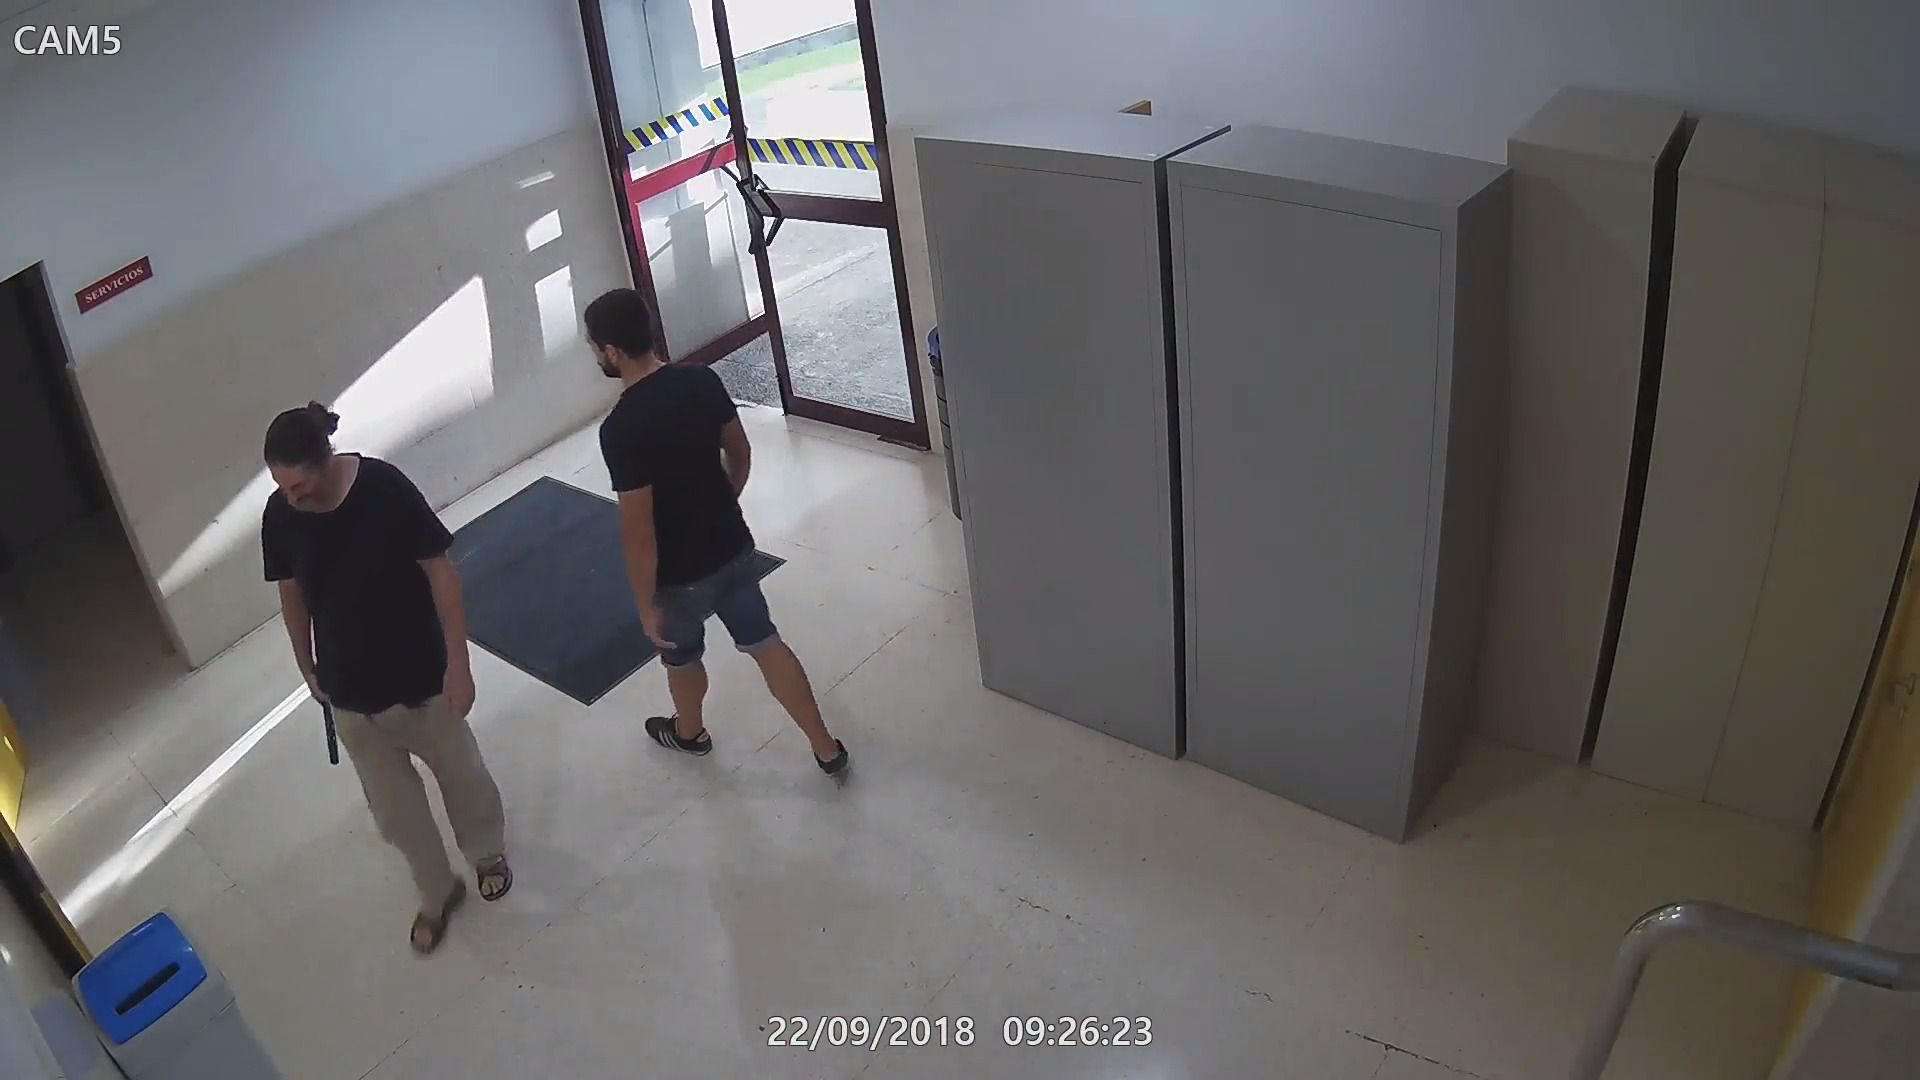Short_rifle: (291, 630, 347, 778)
